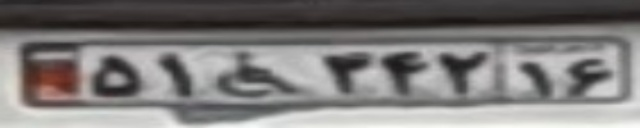1: (161, 51, 198, 95), (521, 59, 556, 99)
2: (439, 47, 485, 93)
4: (321, 51, 370, 95), (382, 49, 425, 94)
5: (93, 54, 137, 98)
6: (564, 55, 614, 97)
malol: (215, 50, 301, 97)
